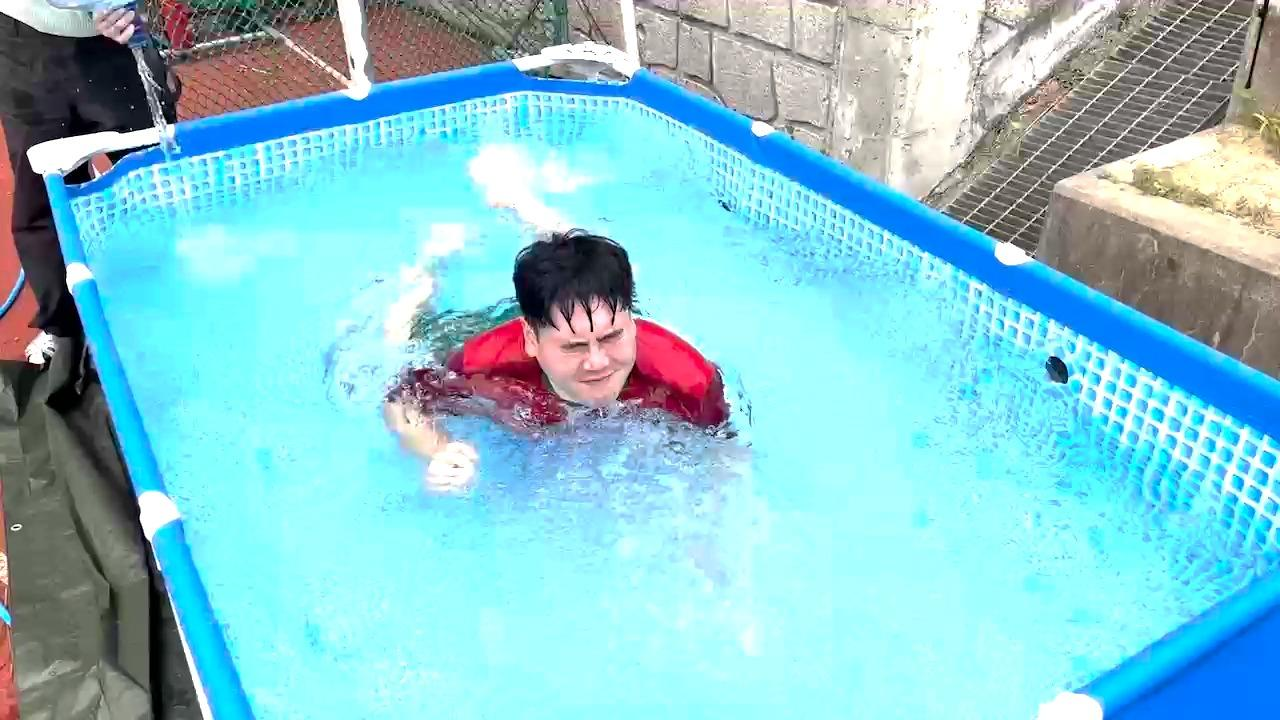Drowning: (375, 100, 779, 547)
